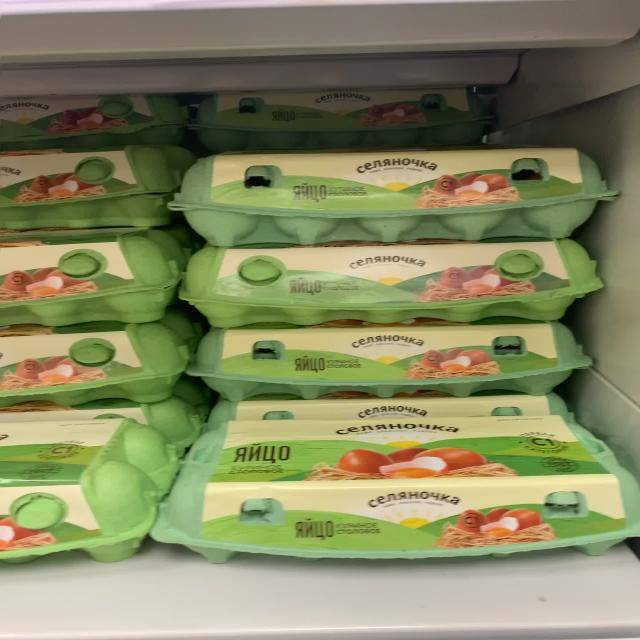egg box: (150, 421, 636, 561), (169, 145, 616, 241), (167, 244, 608, 325), (176, 325, 594, 396), (197, 89, 495, 148)
